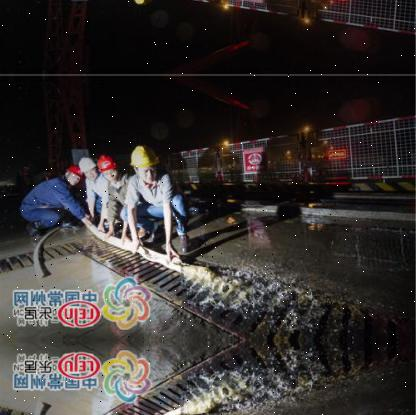helmet: (132, 142, 158, 186), (98, 154, 117, 179), (80, 155, 98, 180), (68, 161, 86, 185)
